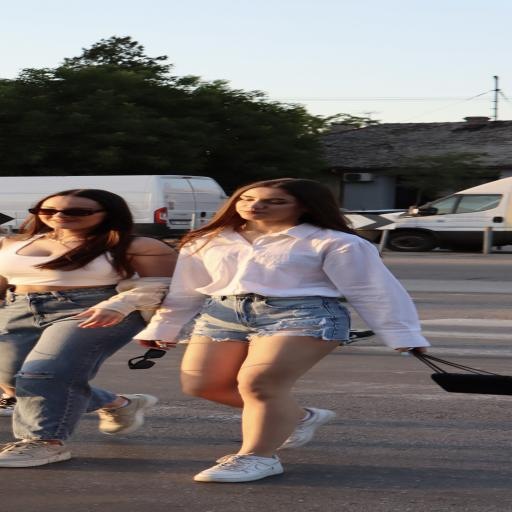marija: (38, 195, 112, 229)
masa: (233, 188, 306, 220)
